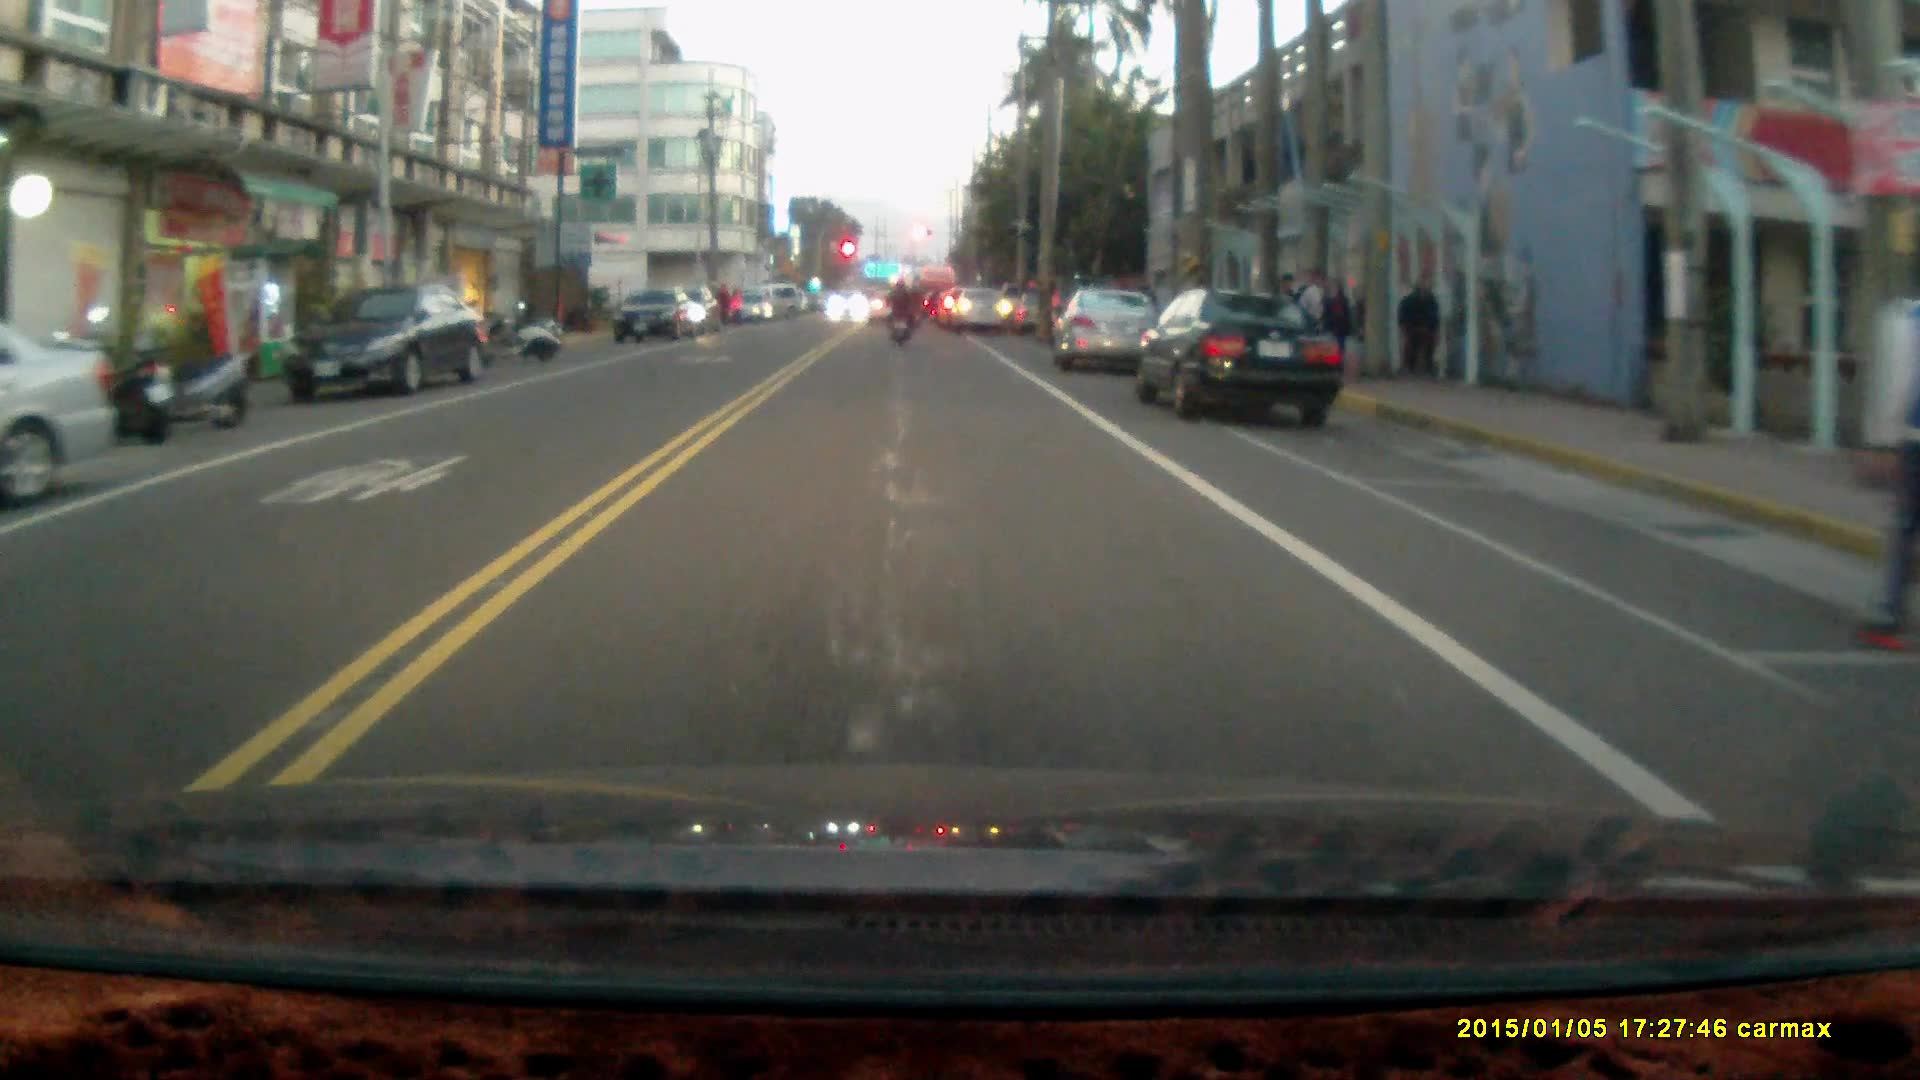pedestrian: (1854, 267, 1920, 658), (1395, 272, 1444, 382), (1309, 271, 1354, 370), (1298, 266, 1331, 364)
rider: (883, 276, 914, 348)
vehicle: (1134, 282, 1350, 429), (286, 282, 485, 400), (1, 326, 116, 495), (1054, 290, 1168, 378), (613, 289, 712, 347), (960, 286, 1015, 335)
